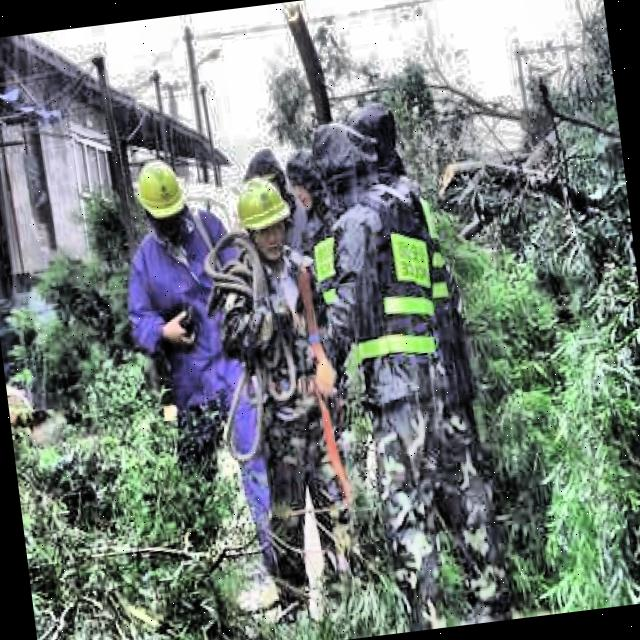helmet: (230, 170, 294, 263), (128, 150, 193, 237)
